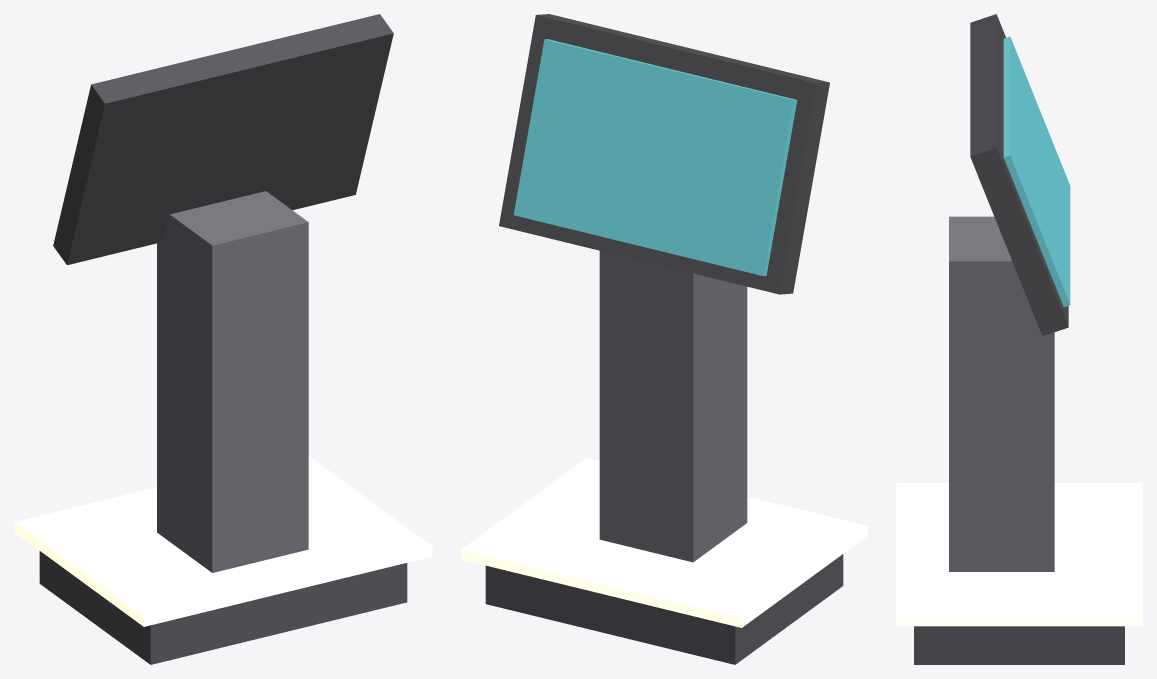
The model's file is Terminal.fbx.
3 views of the same model, side by side, from view 1: azimuth 30°, elevation 25°; view 2: azimuth 150°, elevation 25°; view 3: azimuth 270°, elevation 25° (orthographic). The views are drawn at different scales.
Visible parts, largest first — view 1: Terminal_Mesh; view 2: Terminal_Mesh; view 3: Terminal_Mesh.
Boxes of the visible parts, <box> form: Terminal_Mesh: <box>14,14,432,664</box>; Terminal_Mesh: <box>461,14,867,664</box>; Terminal_Mesh: <box>896,14,1142,664</box>.
Size of the model in its own units: 0.9 by 0.7 by 1.65.
